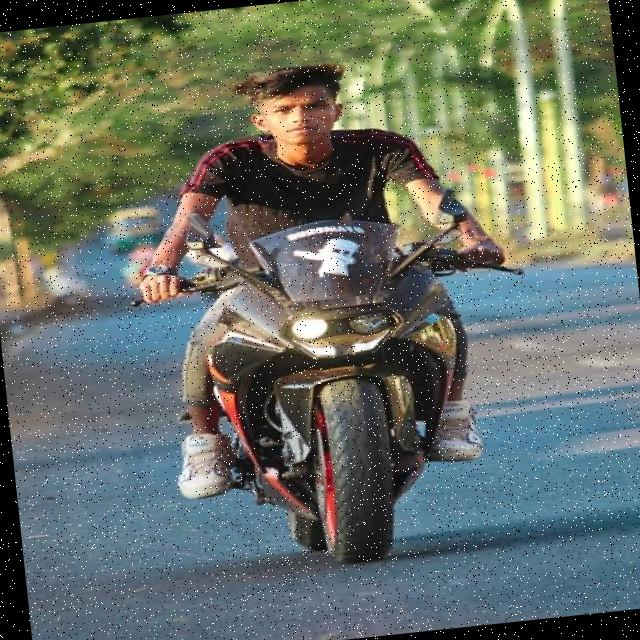No helmet: (250, 57, 352, 167)
